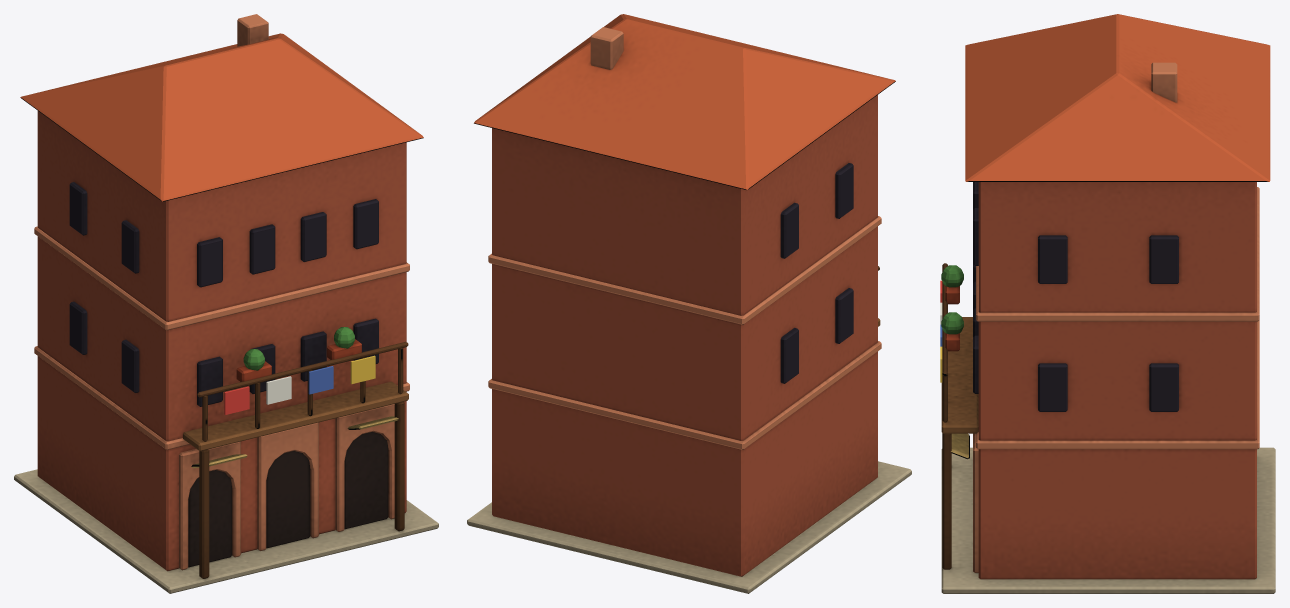
Rendered from insula.glb.
The picture shows the model from 3 angles, left to right: view 1: azimuth 30°, elevation 25°; view 2: azimuth 150°, elevation 25°; view 3: azimuth 270°, elevation 25°; orthographic projection. The views are drawn at different scales.
Visible parts, largest first — view 1: insula, anim_kolys_pranie; view 2: insula; view 3: insula.
Boxes of the visible parts, x1=… form: insula: x1=14, y1=14, x2=438, y2=593; anim_kolys_pranie: x1=224, y1=355, x2=375, y2=414; insula: x1=467, y1=14, x2=911, y2=593; insula: x1=941, y1=14, x2=1275, y2=593.
Bounding box in the file's own units: 1.8 × 2.88 × 1.81.
5 materials, 1 textured.
